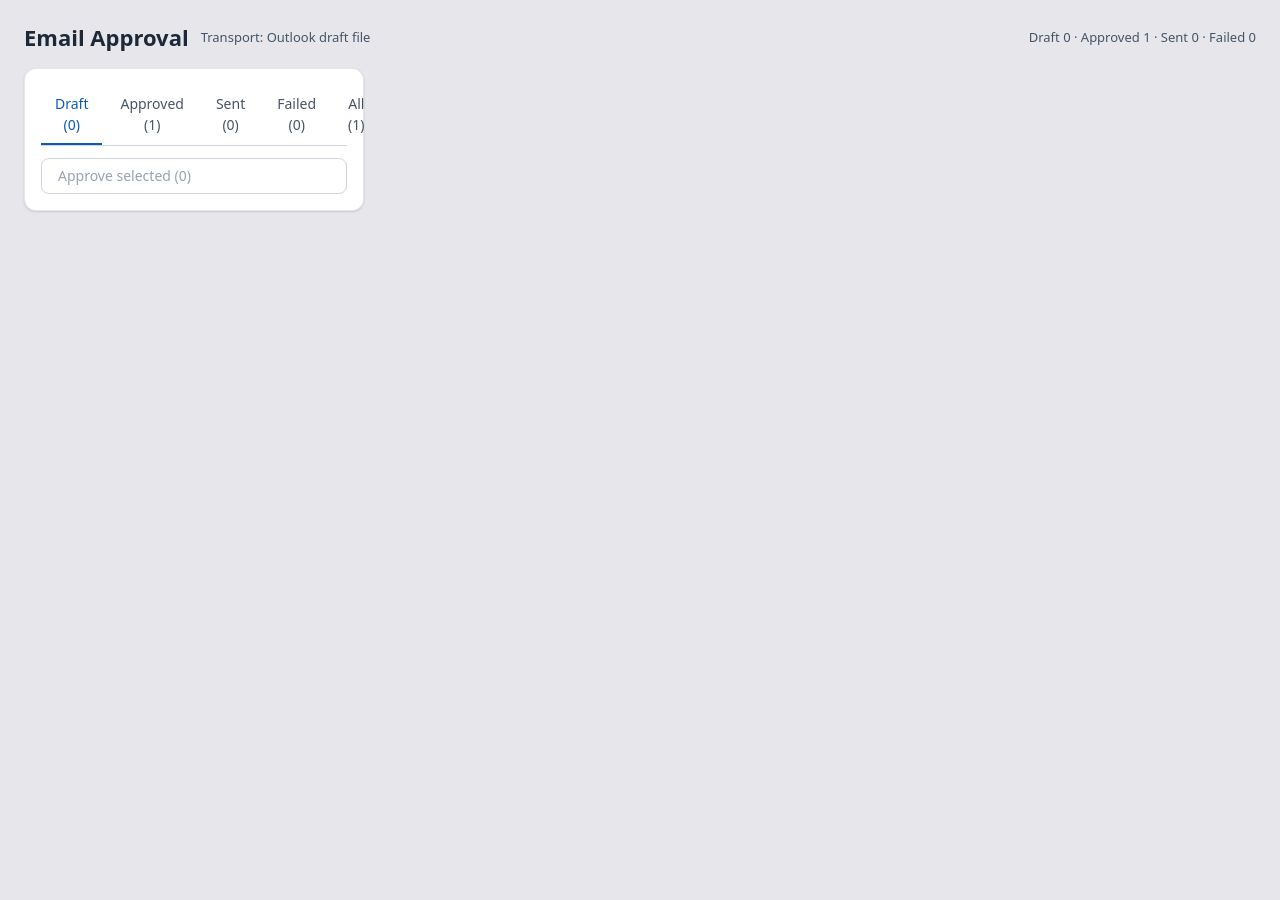
Test: EmailApprovalPage transport handoff › hides the Sent Items action when the email was re-approved
The width and height of the screenshot is (1280, 900).
Step 1. Click the tab "Approved (1)" → [152, 114], box [106,84,198,144]
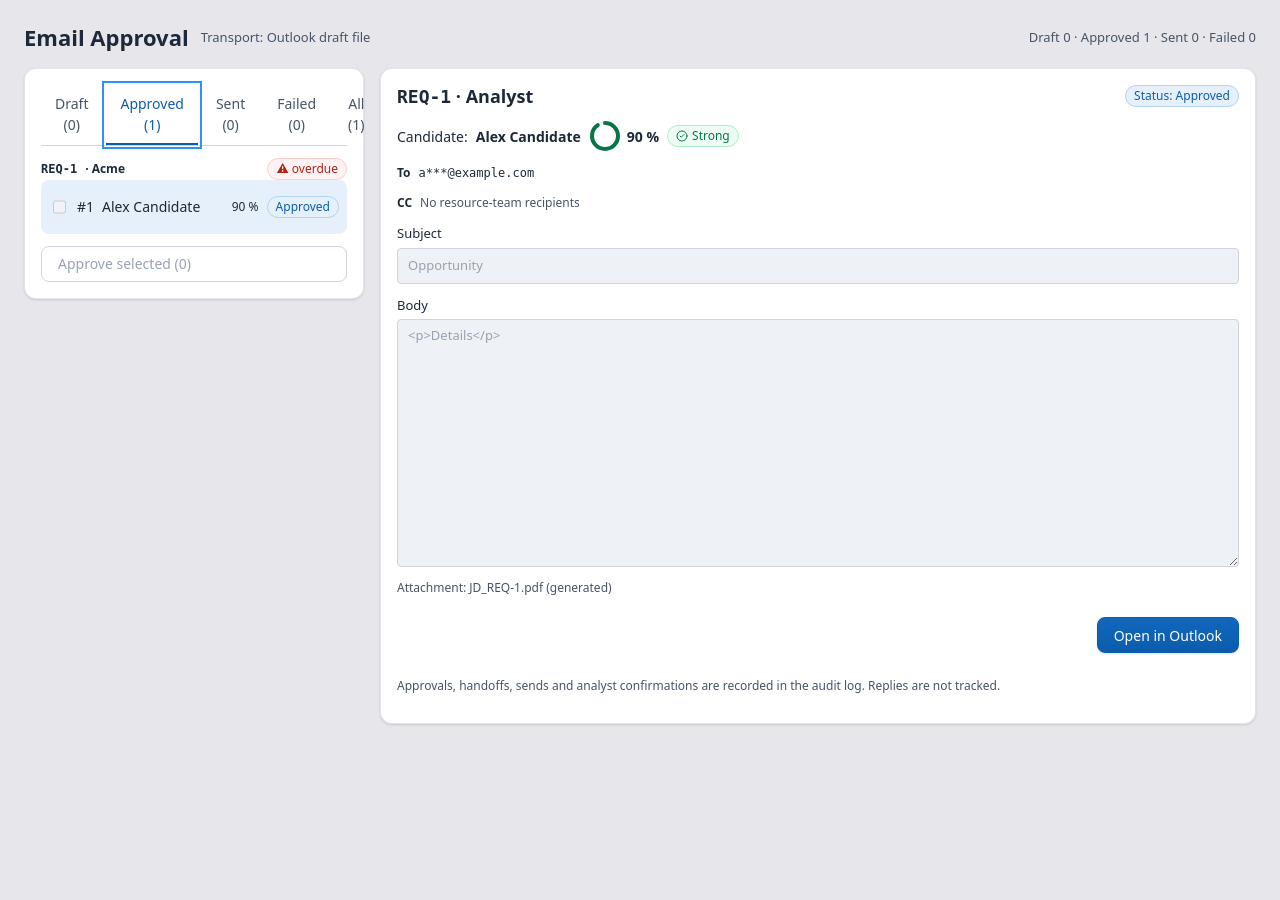
Step 2. Click the button "Open in Outlook" → [1168, 635], box [1097,617,1239,653]
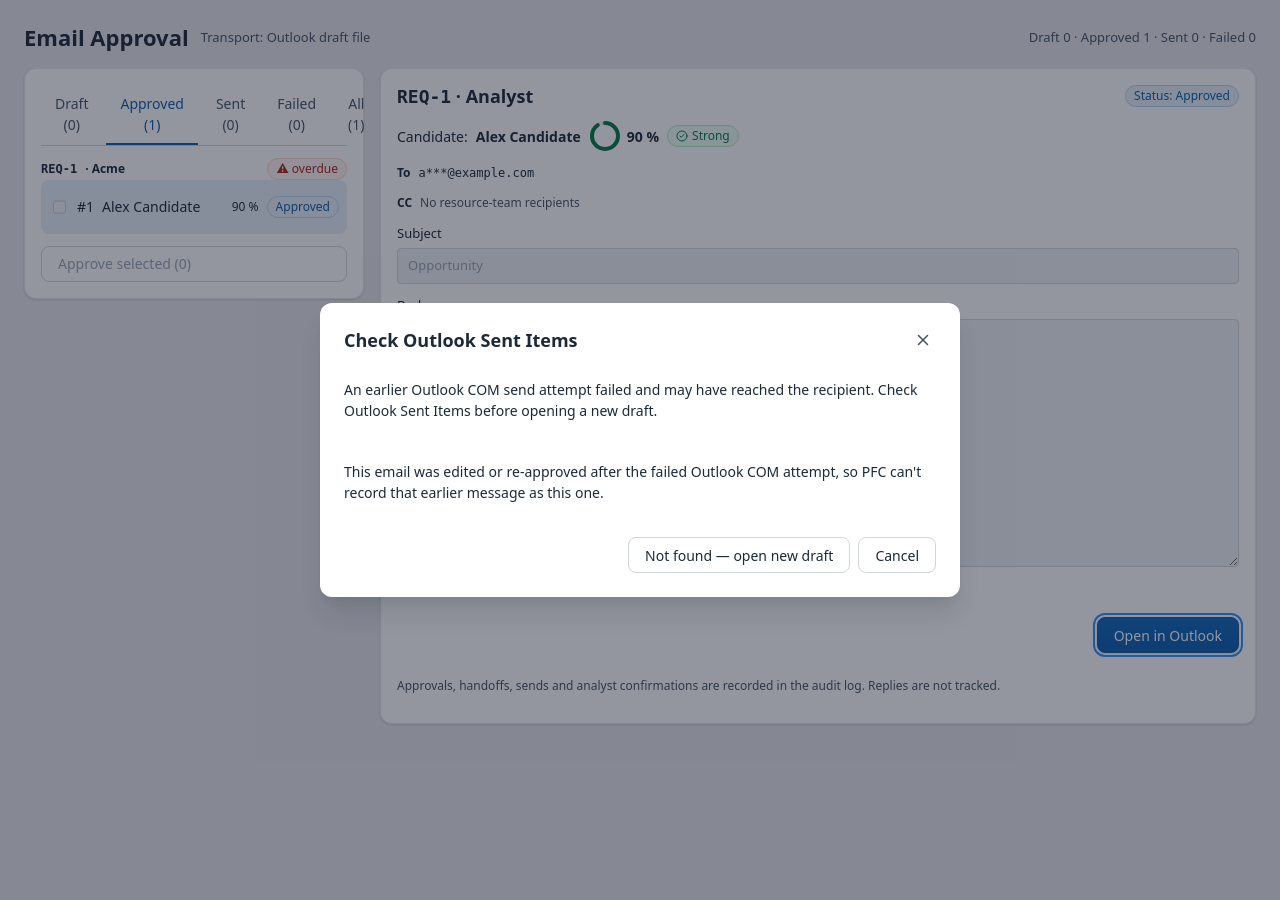
Expected: the text "An earlier Outlook COM send attempt failed and may have reached the recipient. Check Outlook Sent Items before opening a" is shown, [344,380,918,420]
Expected: the text "This email was edited or re-approved after the failed Outlook COM attempt, so PFC can't record that earlier message as t" is shown, [344,462,921,502]
Expected: the button "Not found — open new draft" is shown, [628,537,850,573]
